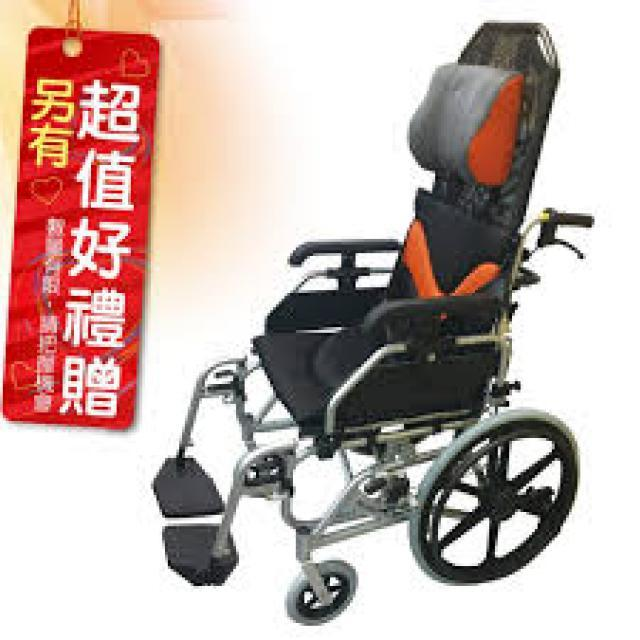wheelchair: (125, 17, 583, 634)
